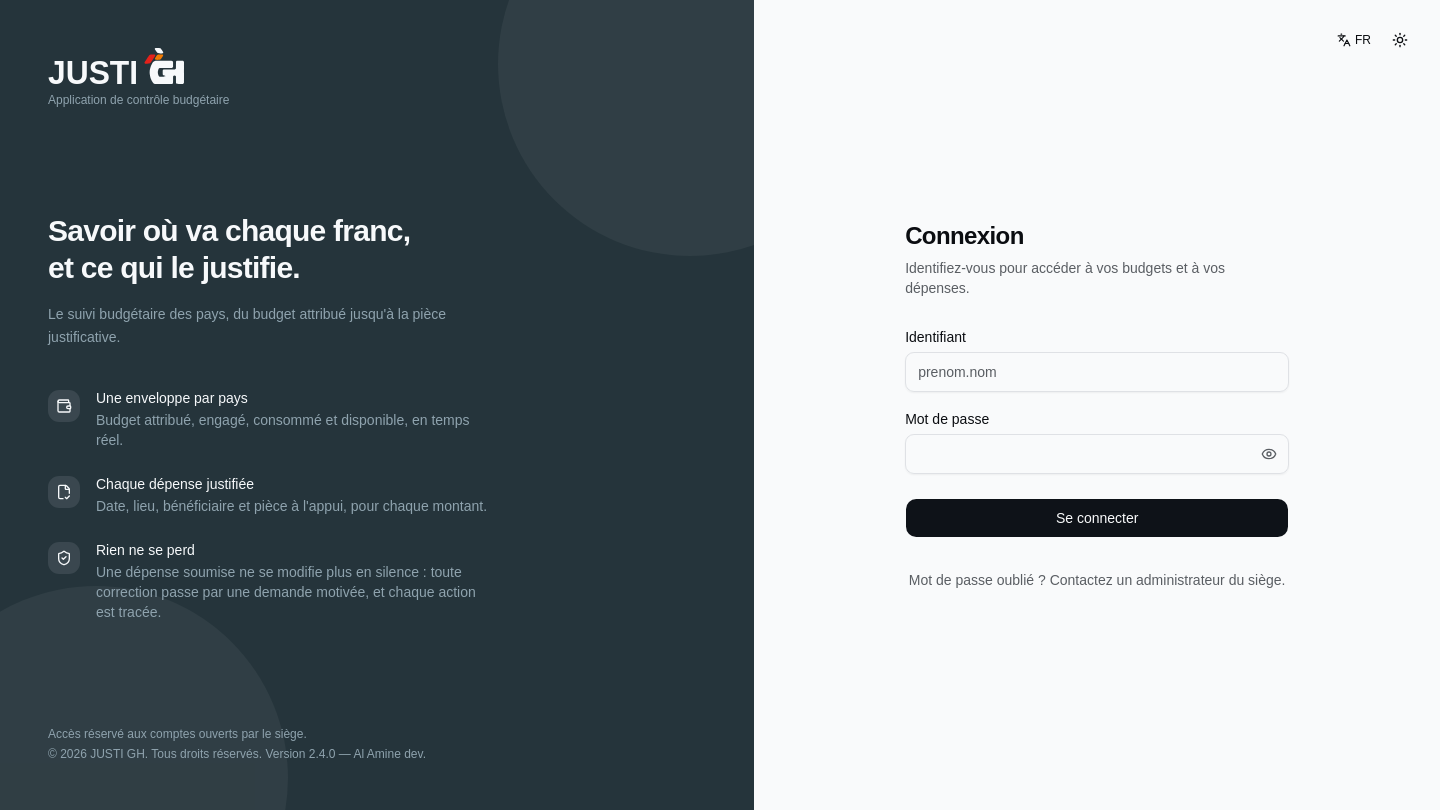
Test: connexion refusée par le profil › affiche le motif du serveur dans l'erreur du formulaire
Type "togo.innov" into the field labelled "Identifiant" at x=1097, y=372, box [905,352,1289,392]
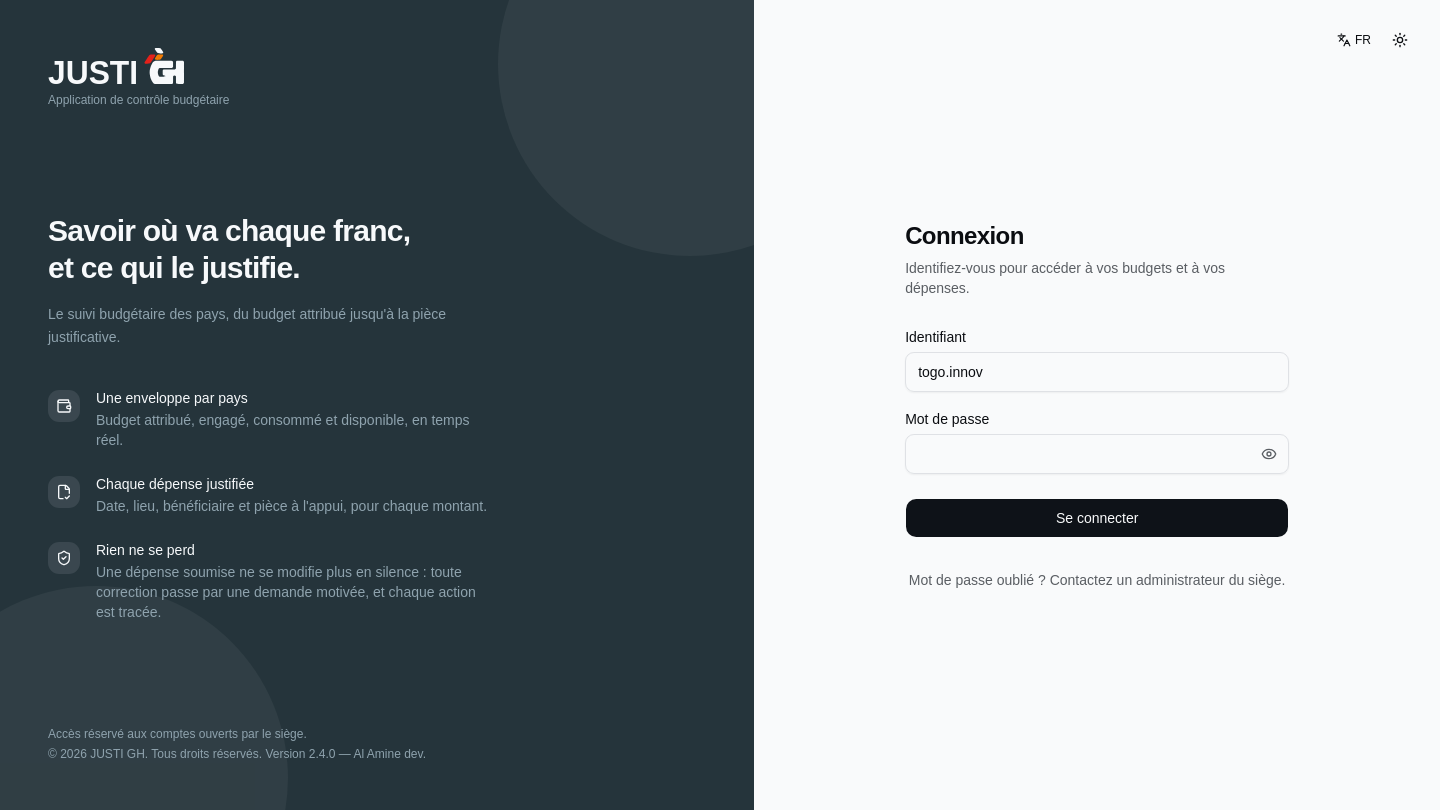
Type "secret" into the password field labelled "Mot de passe" at x=1097, y=454, box [905,434,1289,474]
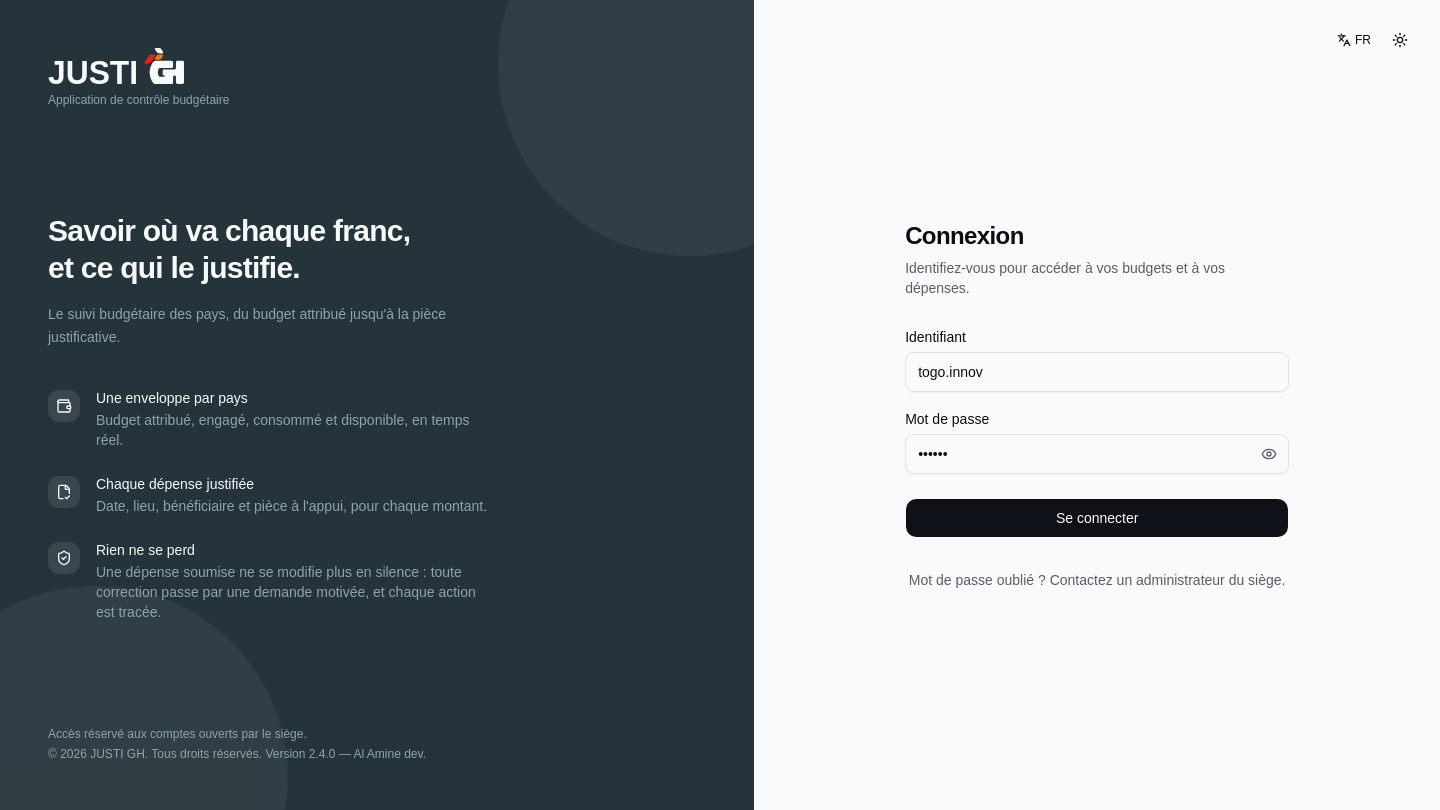
Click the button "Se connecter" at x=1097, y=518, box [905,498,1289,538]
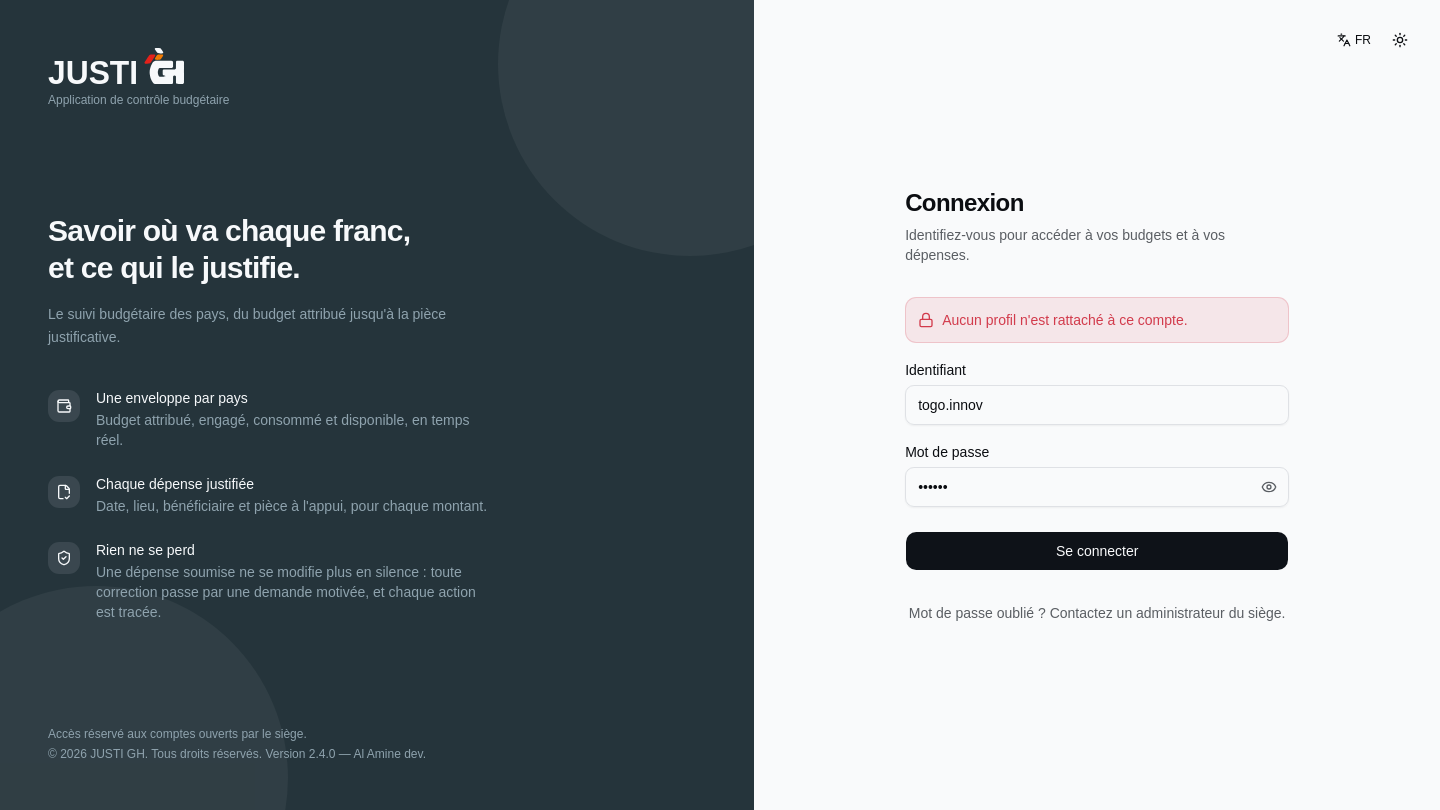
Expected: the message reads "Aucun profil n'est rattaché à ce compte.", [942,312,1188,328]
